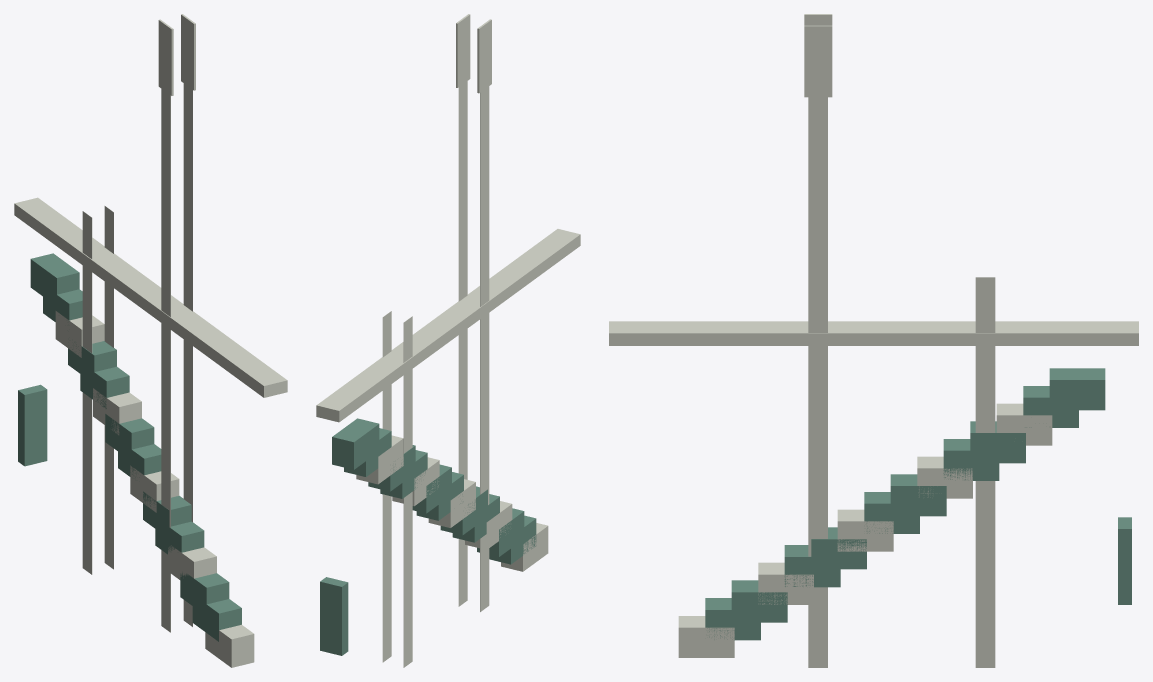
The model's file is stand-level-5.glb.
3 views of the same model, side by side, from view 1: azimuth 30°, elevation 25°; view 2: azimuth 150°, elevation 25°; view 3: azimuth 270°, elevation 25° (orthographic). The views are drawn at different scales.
Parts seen in each view (by area): view 1: Cobertura, Torre--1, Torre-1, Sustentação--1, Fachada, Sustentação-1, Degrau-14, Degrau-0, Degrau-1, Degrau-10, Degrau-9, Degrau-4 (+11 smaller); view 2: Cobertura, Torre--1, Torre-1, Sustentação--1, Sustentação-1, Fachada, Degrau-14, Refletor--1, Refletor-1, Degrau-12, Degrau-0, Degrau-6 (+11 smaller); view 3: Cobertura, Torre-1, Sustentação-1, Degrau-14, Refletor-1, Degrau-0, Degrau-6, Degrau-10, Degrau-2, Degrau-3, Degrau-4, Degrau-8 (+8 smaller).
Part boxes in pixels (x1,y1,x2,y2): Cobertura: [14, 197, 287, 397]; Torre--1: [161, 89, 170, 632]; Torre-1: [183, 83, 192, 626]; Sustentação--1: [82, 211, 92, 574]; Fachada: [18, 384, 47, 466]; Sustentação-1: [104, 206, 113, 569]; Degrau-14: [30, 253, 79, 306]; Degrau-0: [205, 624, 254, 667]; Degrau-1: [192, 599, 241, 641]; Degrau-10: [80, 362, 129, 408]; Degrau-9: [93, 388, 141, 435]; Degrau-4: [155, 517, 204, 554]; Cobertura: [316, 229, 580, 422]; Torre--1: [480, 86, 489, 611]; Torre-1: [458, 81, 467, 606]; Sustentação--1: [403, 316, 412, 667]; Sustentação-1: [382, 311, 391, 662]; Fachada: [320, 577, 348, 655]; Degrau-14: [332, 418, 379, 469]; Refletor--1: [477, 19, 491, 93]; Refletor-1: [456, 14, 470, 87]; Degrau-12: [356, 435, 403, 484]; Degrau-0: [501, 523, 548, 571]; Degrau-6: [428, 479, 475, 527]; Cobertura: [609, 321, 1138, 345]; Torre-1: [808, 97, 827, 667]; Sustentação-1: [975, 288, 995, 667]; Degrau-14: [1049, 368, 1105, 410]; Refletor-1: [804, 25, 832, 97]; Degrau-0: [678, 616, 734, 657]; Degrau-6: [837, 509, 893, 551]; Degrau-10: [943, 439, 999, 480]; Degrau-2: [731, 580, 787, 622]; Degrau-3: [758, 562, 813, 604]; Degrau-4: [784, 545, 840, 587]; Degrau-8: [890, 474, 946, 516].
Size of the model in its own units: 1.06 by 25.4 by 19.
